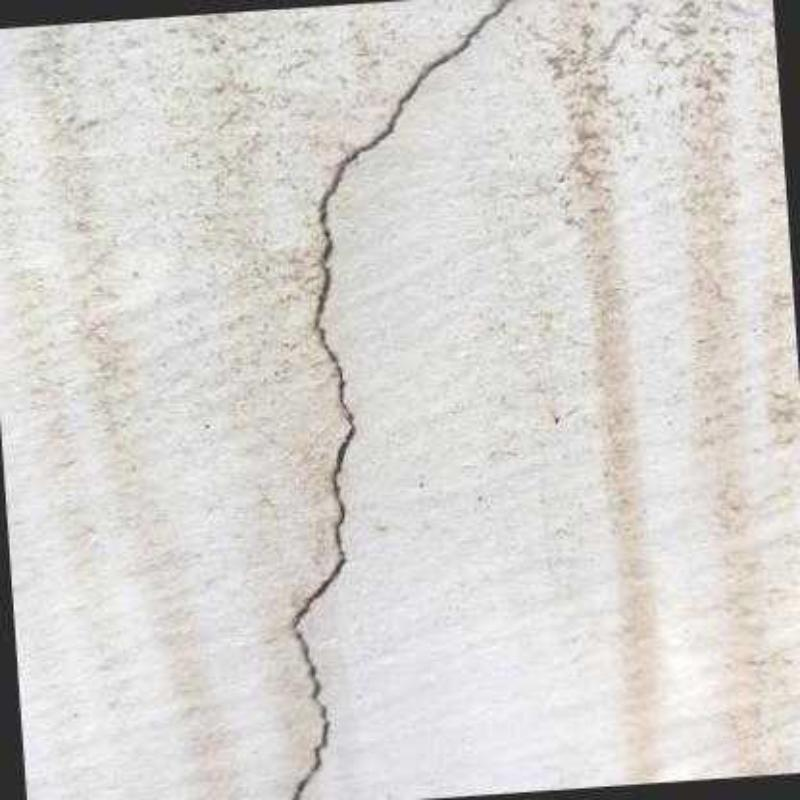pothole: (285, 0, 520, 800)
